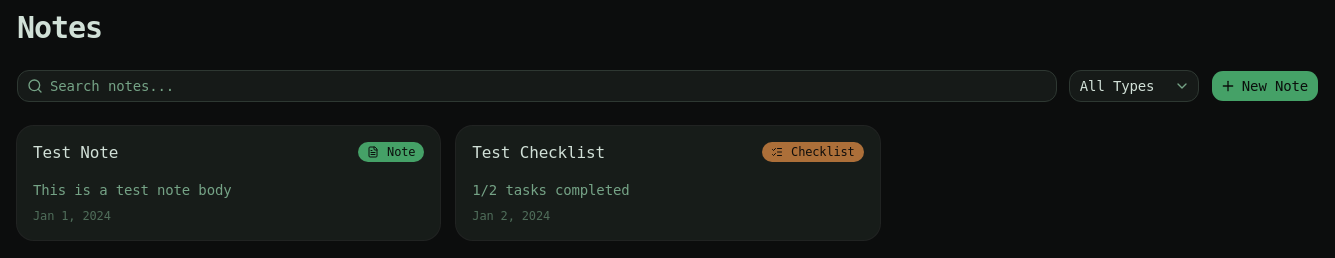
Scenario: notes page — type filter › shows only notes when type filter is set to notes
Expected: the text "Test Note" is shown, [33,142,118,164]
Expected: the text "Test Checklist" is shown, [472,142,605,164]
# Select "Notes" filter — click trigger, then wait for popover, then click the option
Step 1. Click the dropdown → [1134, 86], box [1069,70,1199,102]
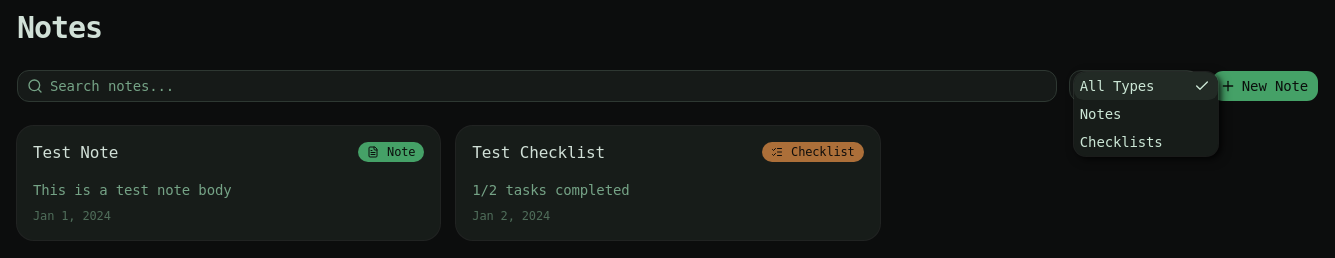
Step 2. Click the option "Notes" → [1100, 114], box [1080,106,1121,122]
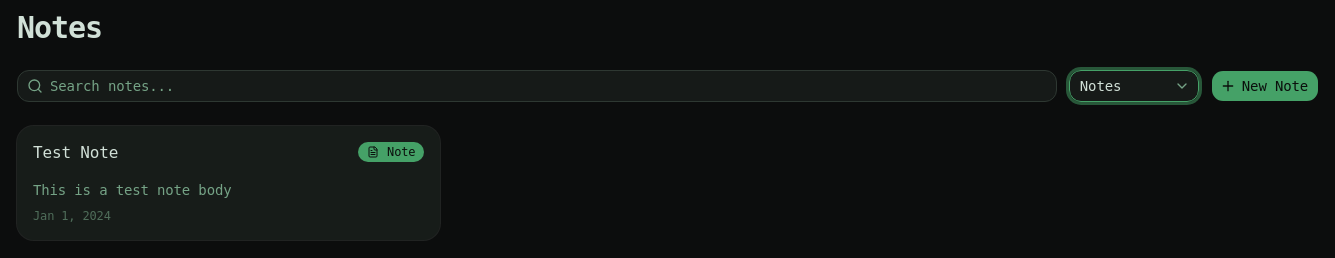
Expected: the text "Test Note" is shown, [33,142,118,164]
Expected: the text "Test Checklist" is gone
